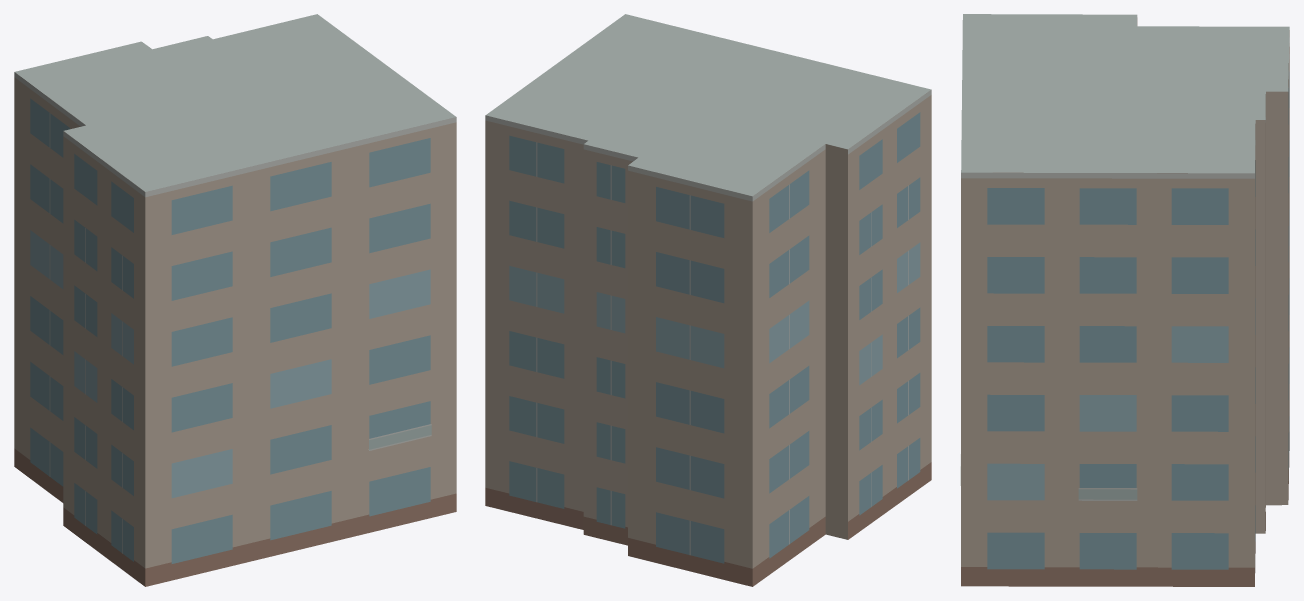
Rendered from survey-upis-32941041.glb.
3 renders of one model, left to right at view 1: azimuth 30°, elevation 25°; view 2: azimuth 150°, elevation 25°; view 3: azimuth 270°, elevation 25°, orthographic. The views are drawn at different scales.
Parts seen in each view (by area): view 1: survey-upis-32941041.tmp; view 2: survey-upis-32941041.tmp; view 3: survey-upis-32941041.tmp.
Part boxes in pixels (left/top/right/bottom): survey-upis-32941041.tmp: left=14, top=14, right=456, bottom=586; survey-upis-32941041.tmp: left=485, top=14, right=931, bottom=586; survey-upis-32941041.tmp: left=960, top=14, right=1289, bottom=586.
Bounding box in the file's own units: 15.13 × 18.3 × 13.21.
